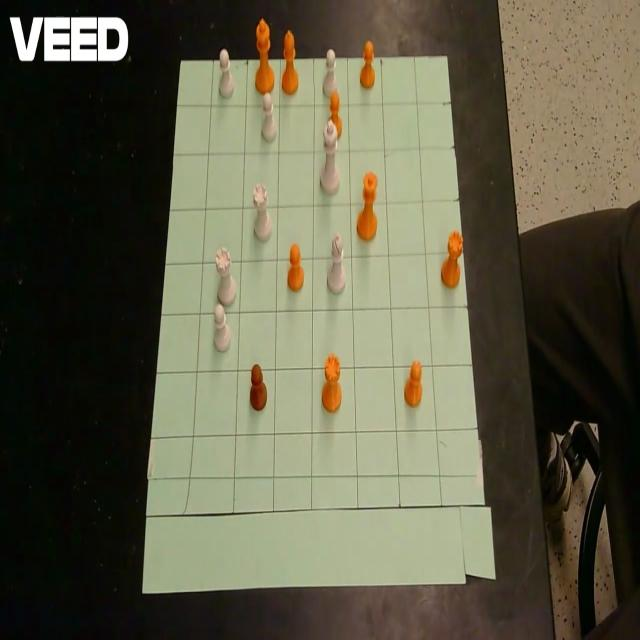orange_bishop: (282, 30, 298, 94), (329, 89, 342, 139)
orange_pawn: (403, 358, 422, 408), (250, 363, 268, 411), (288, 243, 304, 291), (360, 40, 375, 88), (410, 359, 421, 380), (290, 243, 300, 265), (251, 366, 261, 386)
orange_queen: (357, 170, 378, 240)
orange_rook: (441, 229, 463, 288), (321, 352, 341, 412)
white_bishop: (327, 232, 346, 294), (216, 246, 230, 272), (332, 233, 343, 258), (222, 246, 228, 259), (328, 120, 333, 132)
white_king: (251, 15, 275, 90), (320, 120, 340, 192)
white_pawn: (213, 302, 231, 352), (261, 89, 277, 141), (218, 46, 234, 97), (323, 47, 338, 97), (219, 48, 229, 69), (326, 48, 336, 68)
white_rook: (216, 245, 237, 306), (252, 181, 272, 240)
